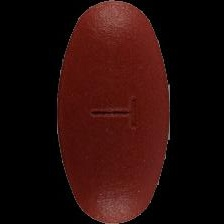59676-566: (0, 0, 224, 224)
